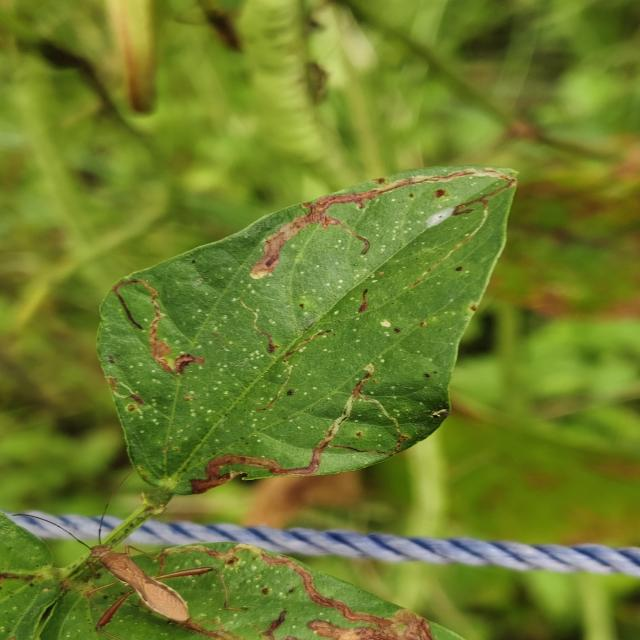sitaw-aphid-low: (98, 167, 517, 547), (38, 540, 463, 640)
